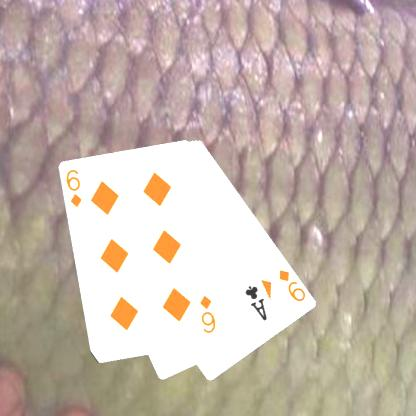6D: (64, 166, 84, 209), (198, 293, 218, 335)
9D: (276, 267, 308, 303)
AC: (242, 283, 269, 323)
